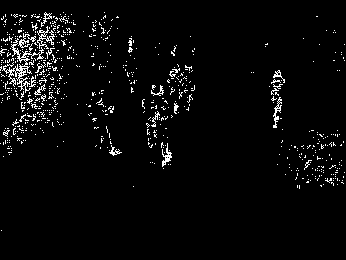person: (144, 84, 174, 165), (87, 88, 120, 159), (270, 68, 287, 129), (168, 63, 184, 115)
